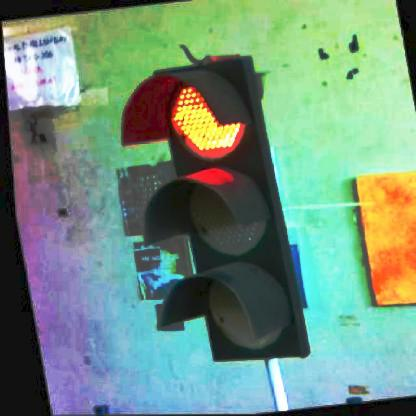Traffic Light -Red-: (107, 58, 307, 373)
